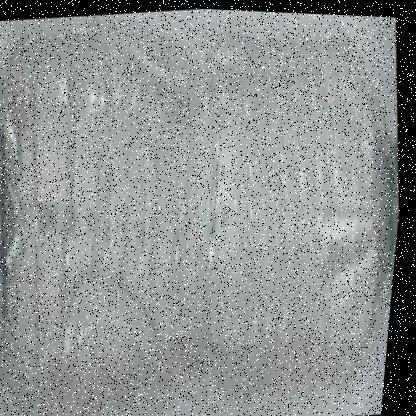open bottle: (300, 12, 416, 416)
